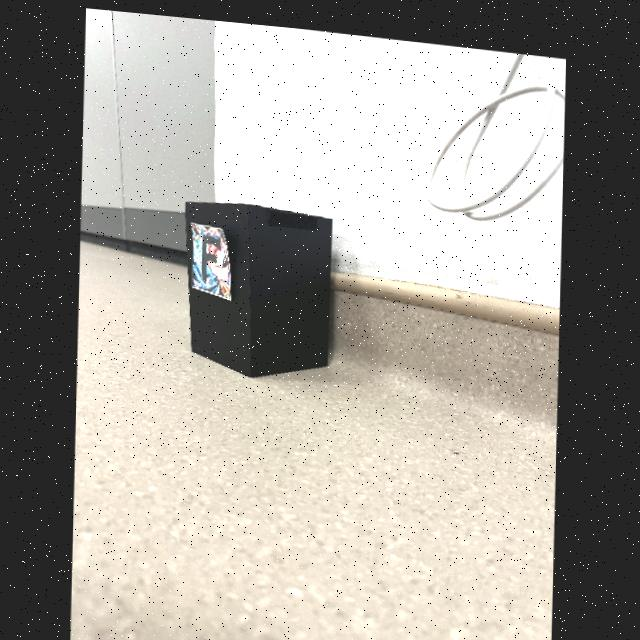F: (203, 232, 219, 278)
